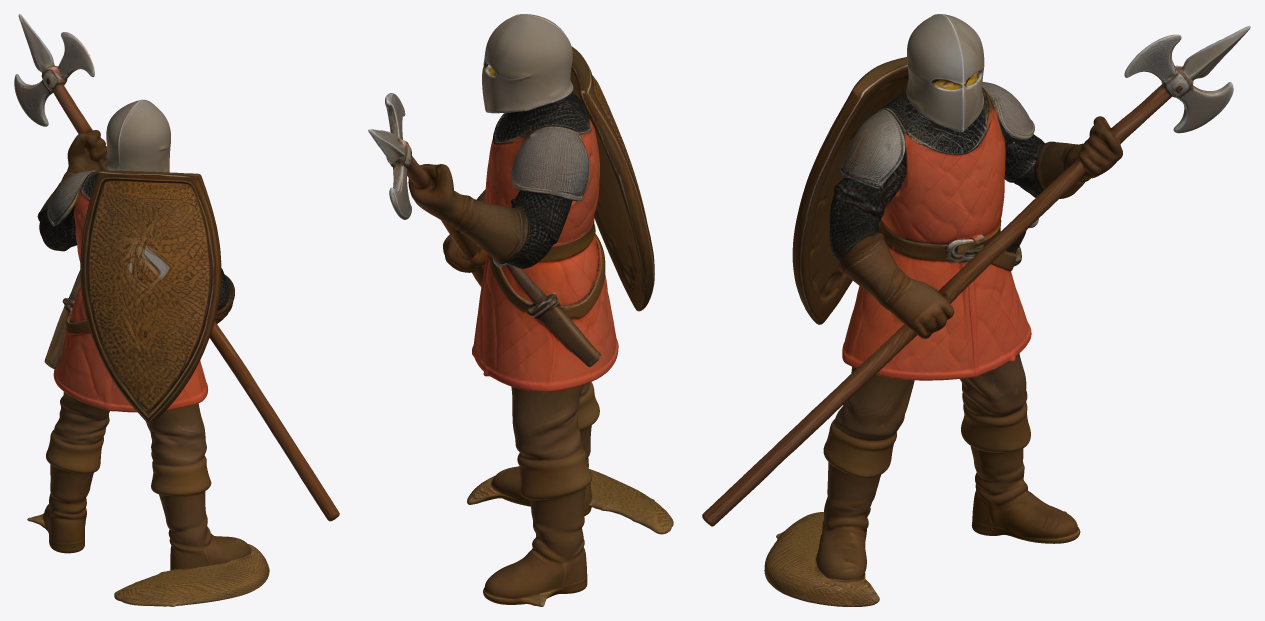
Rendered from Red-Hoplite-figure.glb.
3 views of the same model, side by side, from view 1: azimuth 30°, elevation 25°; view 2: azimuth 150°, elevation 25°; view 3: azimuth 270°, elevation 25° (orthographic). The views are drawn at different scales.
Visible parts, largest first — view 1: tripo_node_96938030-9f2b-4e59-8e7b-70c0ce77d059; view 2: tripo_node_96938030-9f2b-4e59-8e7b-70c0ce77d059; view 3: tripo_node_96938030-9f2b-4e59-8e7b-70c0ce77d059.
Boxes of the visible parts, <box> form: tripo_node_96938030-9f2b-4e59-8e7b-70c0ce77d059: <box>14,14,339,606</box>; tripo_node_96938030-9f2b-4e59-8e7b-70c0ce77d059: <box>368,14,673,606</box>; tripo_node_96938030-9f2b-4e59-8e7b-70c0ce77d059: <box>702,14,1250,606</box>.
Size of the model in its own units: 0.4203 by 1 by 0.9146.
1 material, 1 textured.
